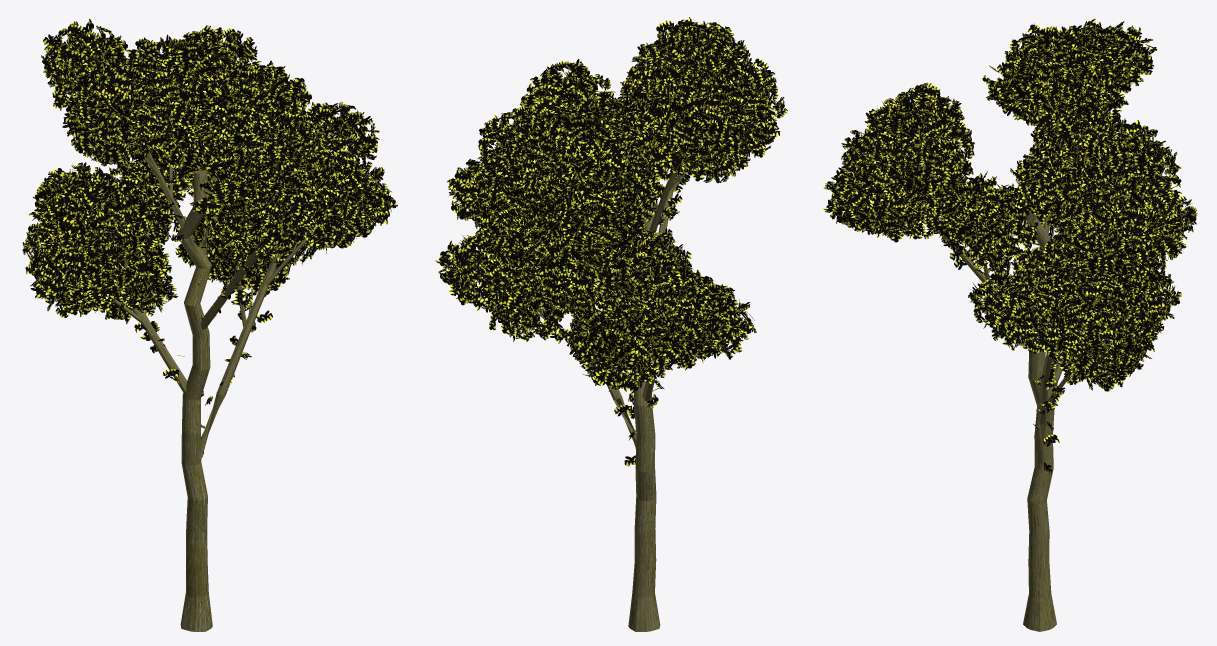
The model's file is cottonwood_river_v02.fbx.
The picture shows the model from 3 angles, left to right: view 1: azimuth 30°, elevation 25°; view 2: azimuth 150°, elevation 25°; view 3: azimuth 270°, elevation 25°; orthographic projection. The views are drawn at different scales.
Parts seen in each view (by area): view 1: cottonwood_river_v02; view 2: cottonwood_river_v02; view 3: cottonwood_river_v02.
Part boxes in pixels (x1,y1,x2,y2): cottonwood_river_v02: [22, 19, 397, 631]; cottonwood_river_v02: [435, 17, 787, 631]; cottonwood_river_v02: [823, 18, 1197, 631].
Bounding box in the file's own units: 1993 × 2066 × 3407.
2 materials, 2 textured.
